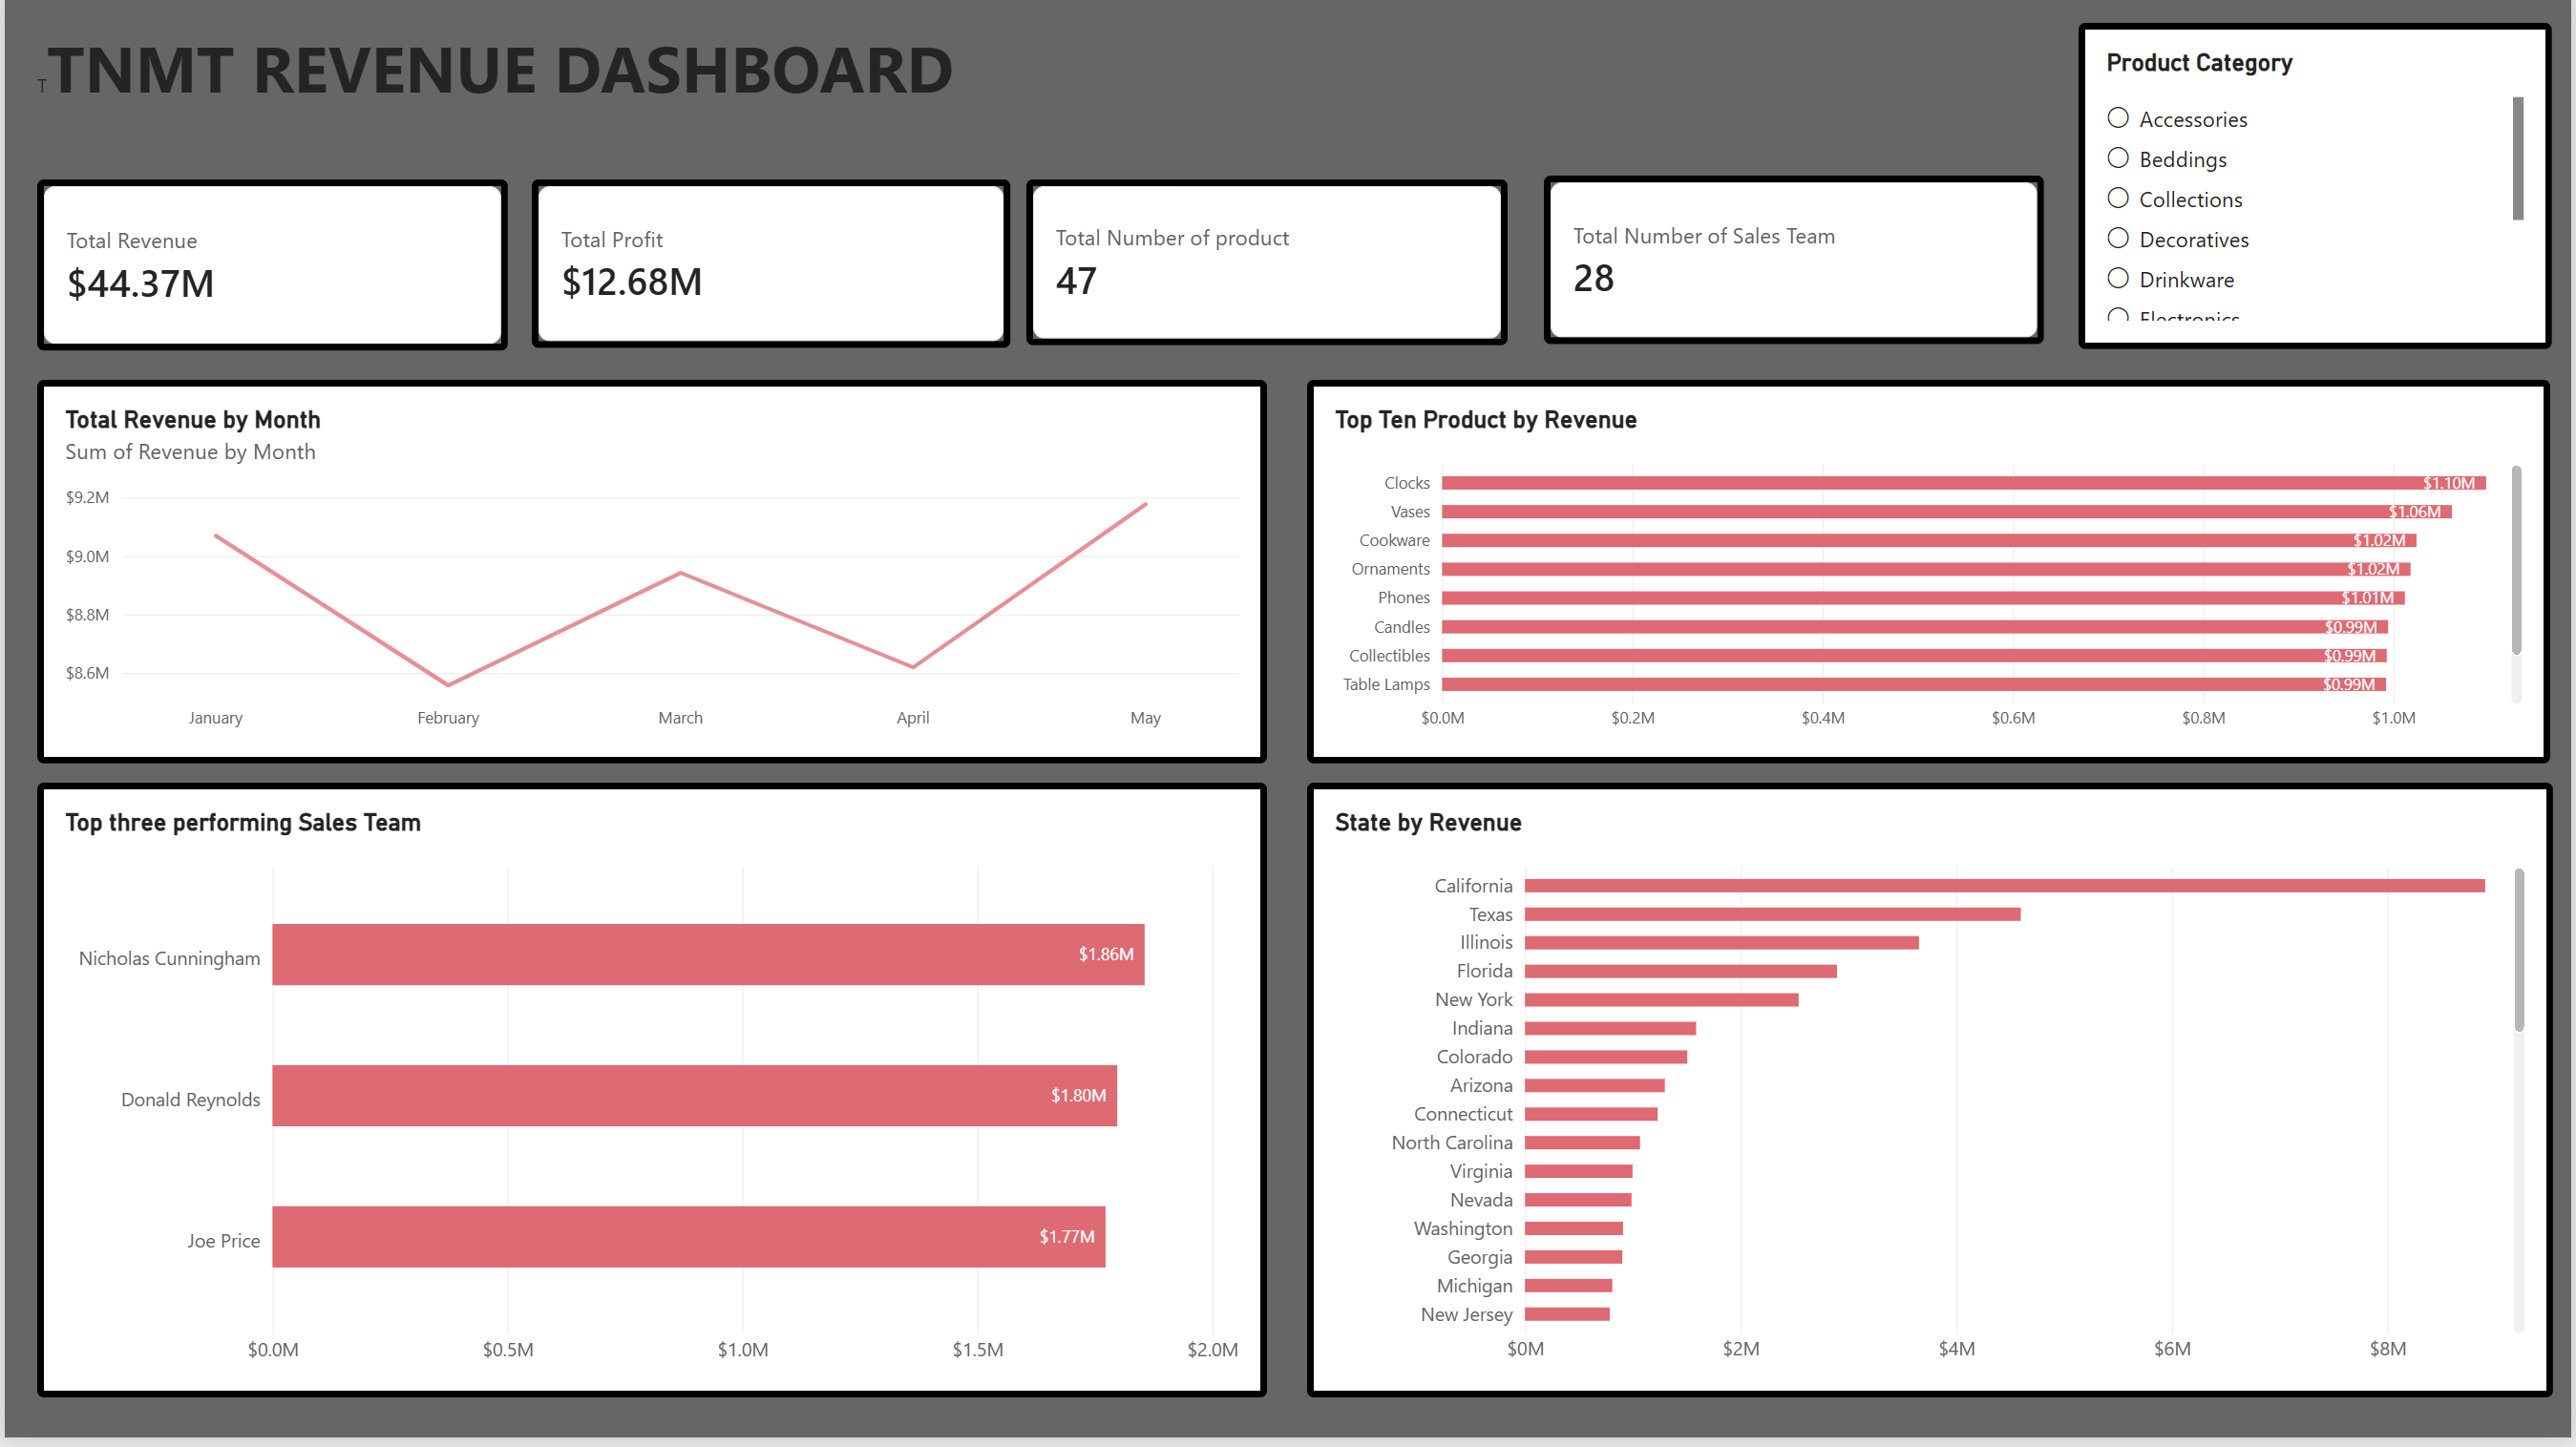

The page's visual inventory and layout, read from the dashboard file:
{"tool":"powerbi","page":{"name":"Dashboard","canvas":[1920,1080],"ordinal":4},"visuals":[{"type":"cardVisual","fields":{"Data":["Sales table.Total Revenue"]},"box":[24,138,352,128],"z":0},{"type":"cardVisual","fields":{"Data":["Sales table.Total Profit"]},"box":[394,138,358,126],"z":1000},{"type":"cardVisual","fields":{"Data":["Sales table.Total Number of product"]},"box":[764,138,360,124],"z":2000},{"type":"cardVisual","fields":{"Data":["Sales table.Total Number of Sales Team"]},"box":[1152,136,374,126],"z":3000},{"type":"lineChart","title":"Total Revenue by Month","fields":{"Category":["Sales table.Sales Date.Variation.Date Hierarchy.Month"],"Y":["Sum(Sales table.Revenue)"]},"box":[24.1,289.2,919.8,287.2],"z":4000},{"type":"barChart","title":"Top Ten Product by Revenue","fields":{"Category":["Products.Product Name"],"Y":["Sum(Sales table.Revenue)"]},"box":[974.1,289.2,929.9,287.2],"z":5000},{"type":"barChart","title":"Top three performing Sales Team","fields":{"Category":["Sales Team.Sales Team"],"Y":["Sum(Sales table.Revenue)"]},"box":[24,590,920,460],"z":6000},{"type":"barChart","title":" State by Revenue","fields":{"Category":["Store Locations.state"],"Y":["Sum(Sales table.Revenue)"]},"box":[974.1,590.5,931.9,459.9],"z":7000},{"type":"textbox","box":[24,22,850,100],"z":7001},{"type":"listSlicer","fields":{"Values":["Products.Product Category"]},"box":[1552,22,354,244],"z":7002}]}

Visuals, with their boxes in screenshot pixels (x1, y1, x2, y2), scaled from the page's 1920x1080 canvas onto the 2576x1447 screenshot:
cardVisual - Sales table.Total Revenue: [32, 185, 504, 356]
cardVisual - Sales table.Total Profit: [529, 185, 1009, 354]
cardVisual - Sales table.Total Number of product: [1025, 185, 1508, 351]
cardVisual - Sales table.Total Number of Sales Team: [1546, 182, 2047, 351]
"Total Revenue by Month" lineChart: [32, 388, 1266, 772]
"Top Ten Product by Revenue" barChart: [1307, 388, 2555, 772]
"Top three performing Sales Team" barChart: [32, 790, 1267, 1407]
" State by Revenue" barChart: [1307, 791, 2557, 1407]
textbox: [32, 30, 1172, 163]
listSlicer - Products.Product Category: [2082, 30, 2557, 356]
